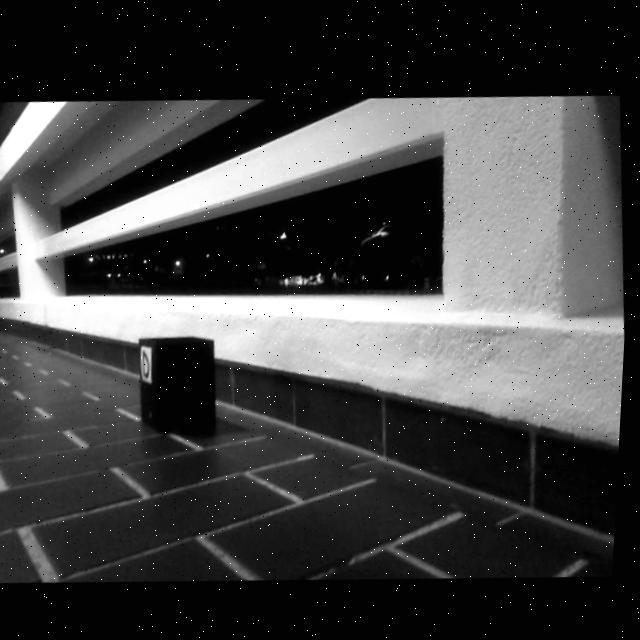D: (145, 346, 154, 377)
